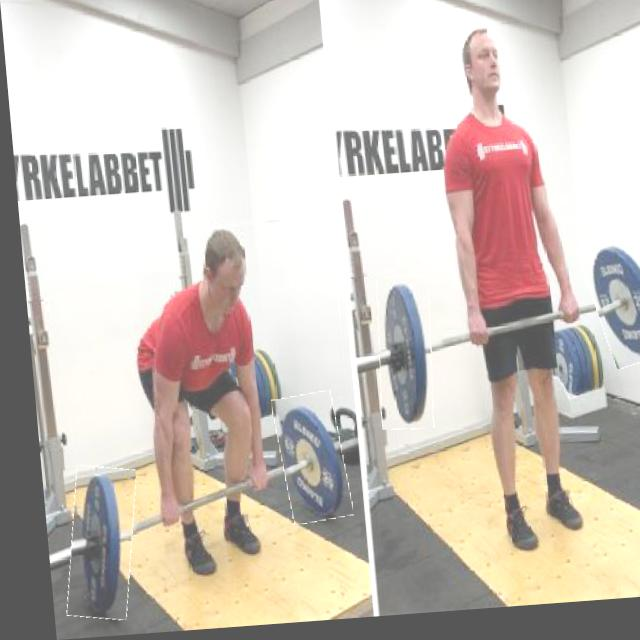barbell: (51, 466, 132, 624), (366, 282, 432, 437), (267, 397, 342, 529), (578, 241, 640, 378)
